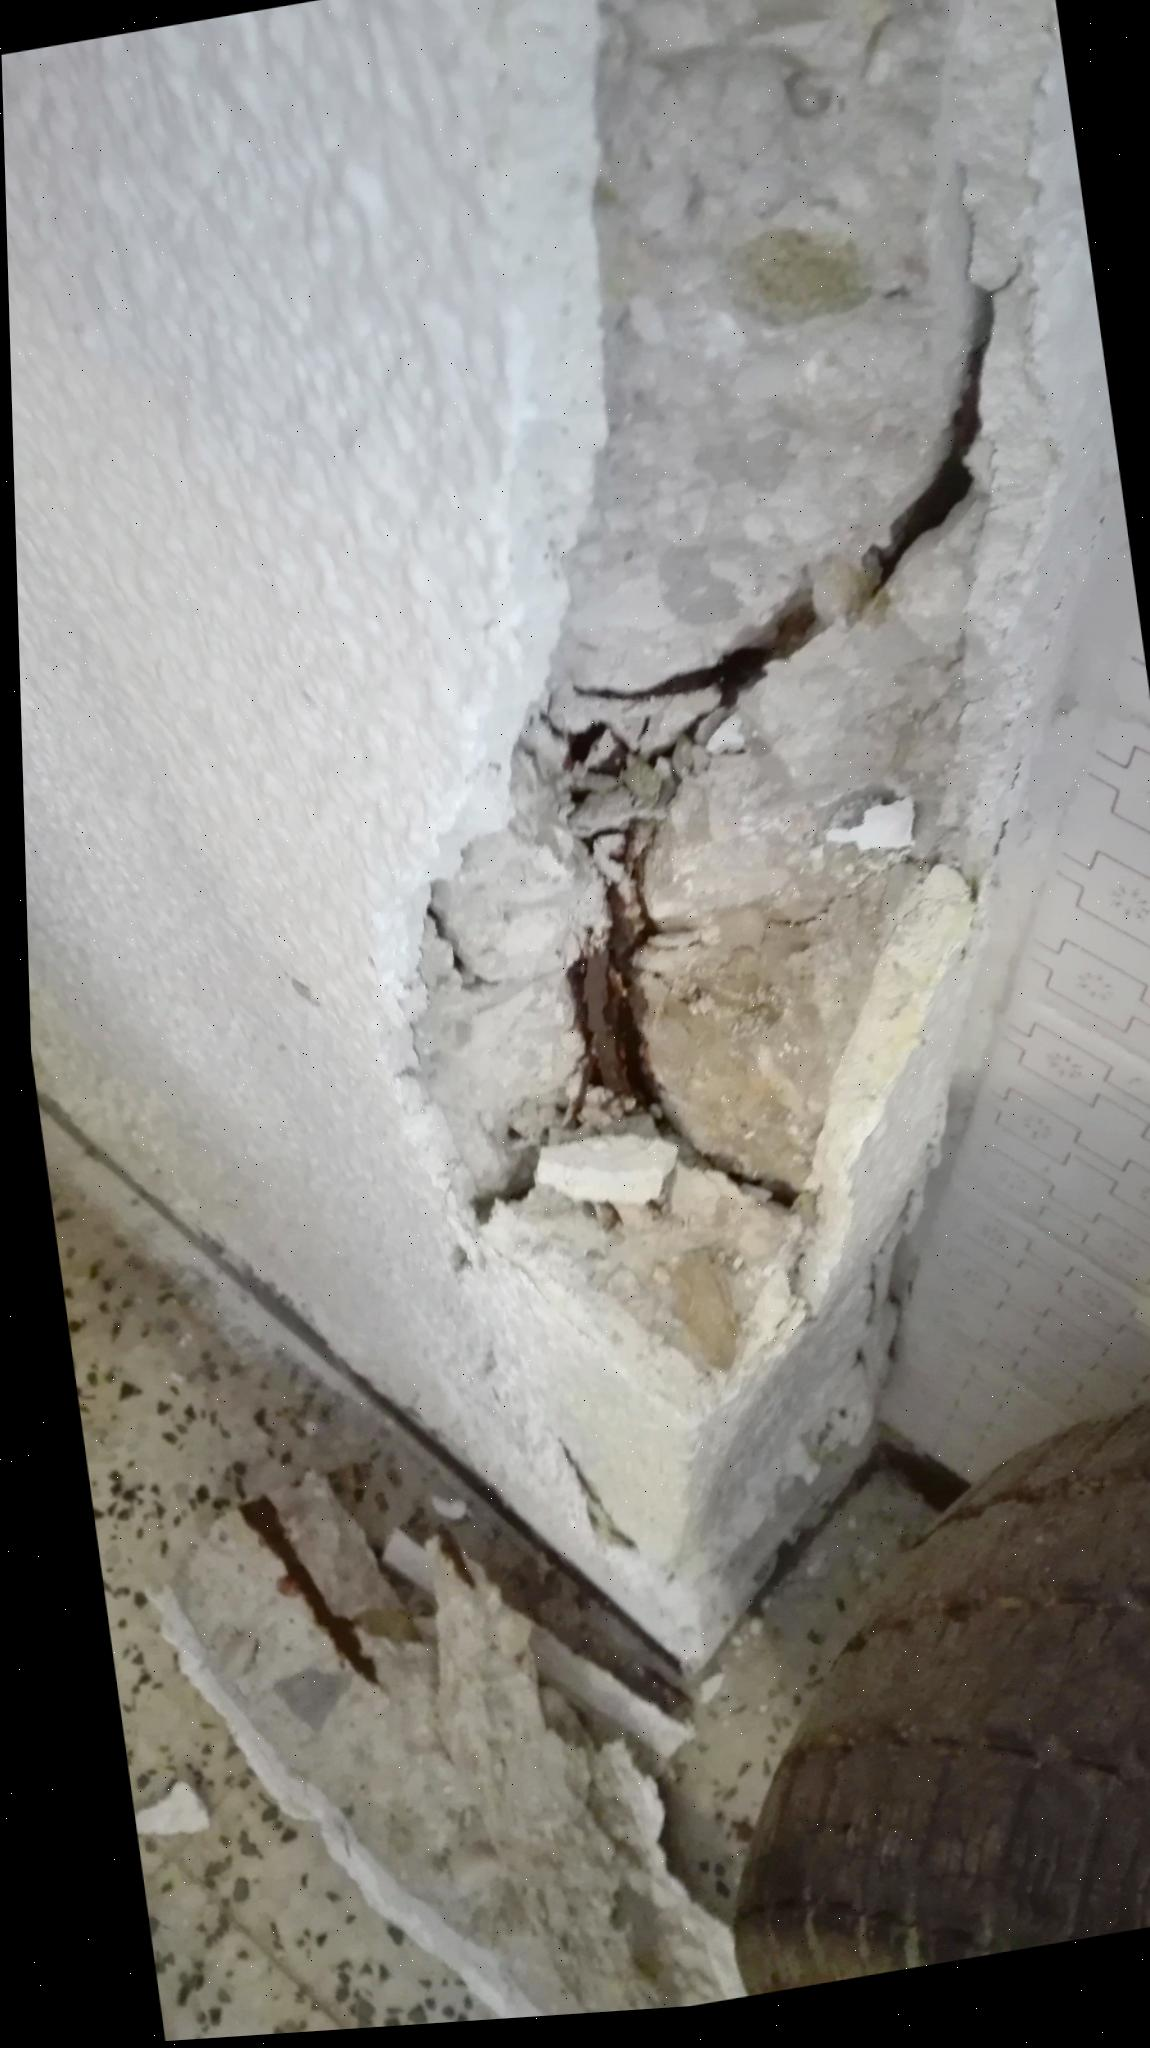spalling: (385, 0, 1064, 1428)
